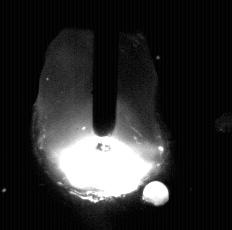arame: (93, 0, 118, 136)
poca: (31, 0, 163, 230)
